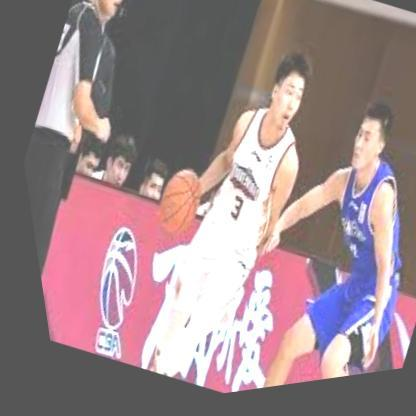basketball: (141, 167, 206, 244)
